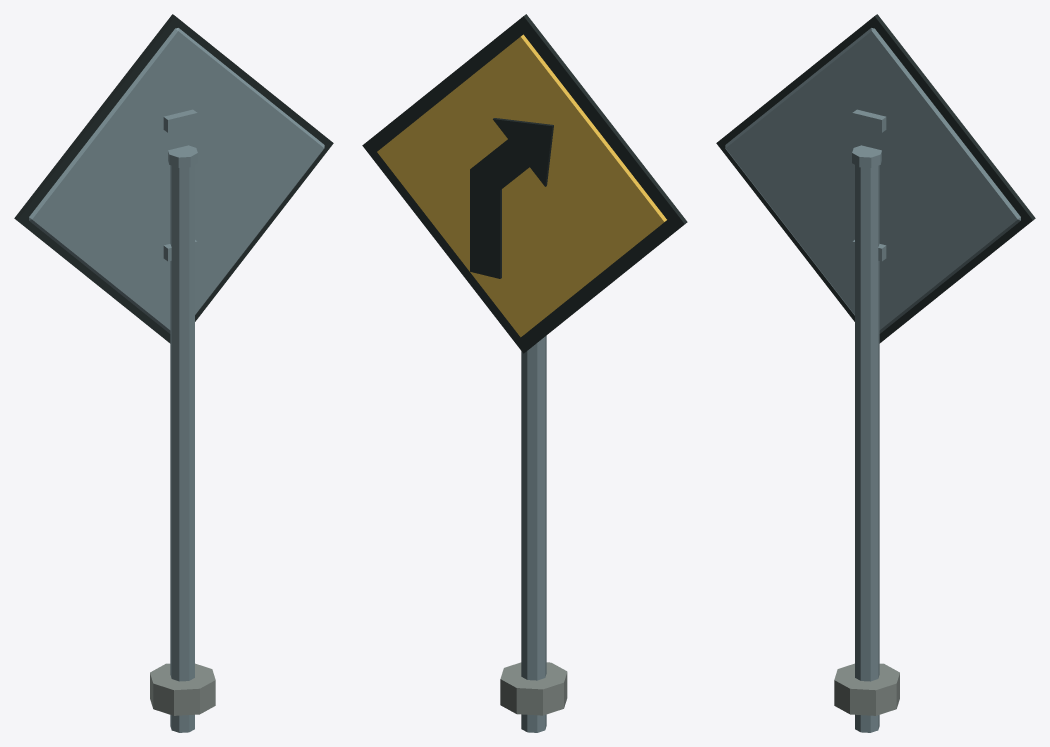
File: sm_env_sign_curve.glb
The picture shows the model from 3 angles, left to right: view 1: azimuth 30°, elevation 25°; view 2: azimuth 150°, elevation 25°; view 3: azimuth 330°, elevation 25°; orthographic projection.
Visible parts, largest first — view 1: SignBack, SignPost, SignBorder, PostBase, SignBracket.001, PostCap; view 2: SignPanel, SignBorder, SignPost, CurveArrow, PostBase; view 3: SignBack, SignPost, SignBorder, PostBase, SignBracket.001, PostCap.
Boxes of the visible parts, x1,y1,x2,y2 form: SignBack: [29, 28, 324, 333]; SignPost: [170, 165, 194, 732]; SignBorder: [14, 14, 333, 343]; PostBase: [150, 663, 215, 715]; SignBracket.001: [163, 109, 197, 132]; PostCap: [168, 145, 197, 167]; SignPanel: [377, 34, 666, 337]; SignBorder: [362, 14, 687, 353]; SignPost: [521, 335, 546, 732]; CurveArrow: [470, 118, 553, 278]; PostBase: [500, 662, 567, 715]; SignBack: [725, 28, 1020, 333]; SignPost: [855, 165, 879, 732]; SignBorder: [716, 14, 1035, 343]; PostBase: [834, 663, 899, 715]; SignBracket.001: [852, 109, 886, 132]; PostCap: [852, 145, 881, 167].
Bounding box in the file's own units: 1.29 × 2.74 × 0.24.
